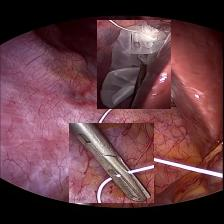Grasper: (69, 122, 154, 202)
Specimen Bag: (98, 19, 172, 108)
